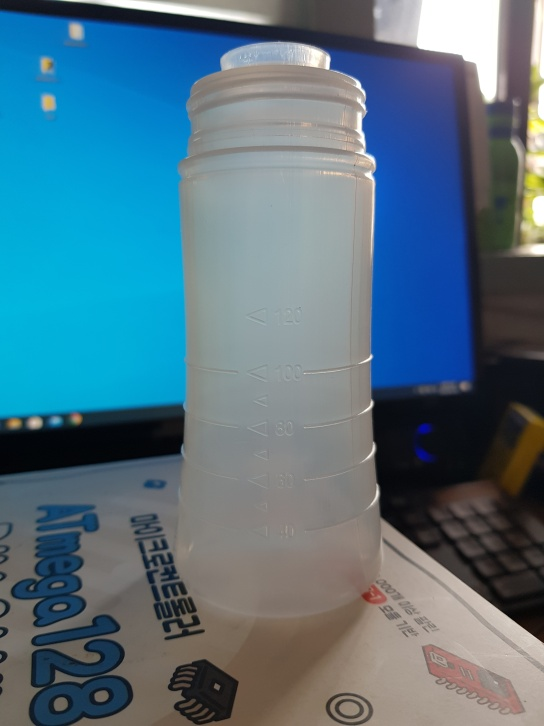Plastic: (171, 41, 386, 620)
